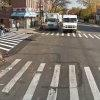Crosswalk: (8, 52, 99, 99)
